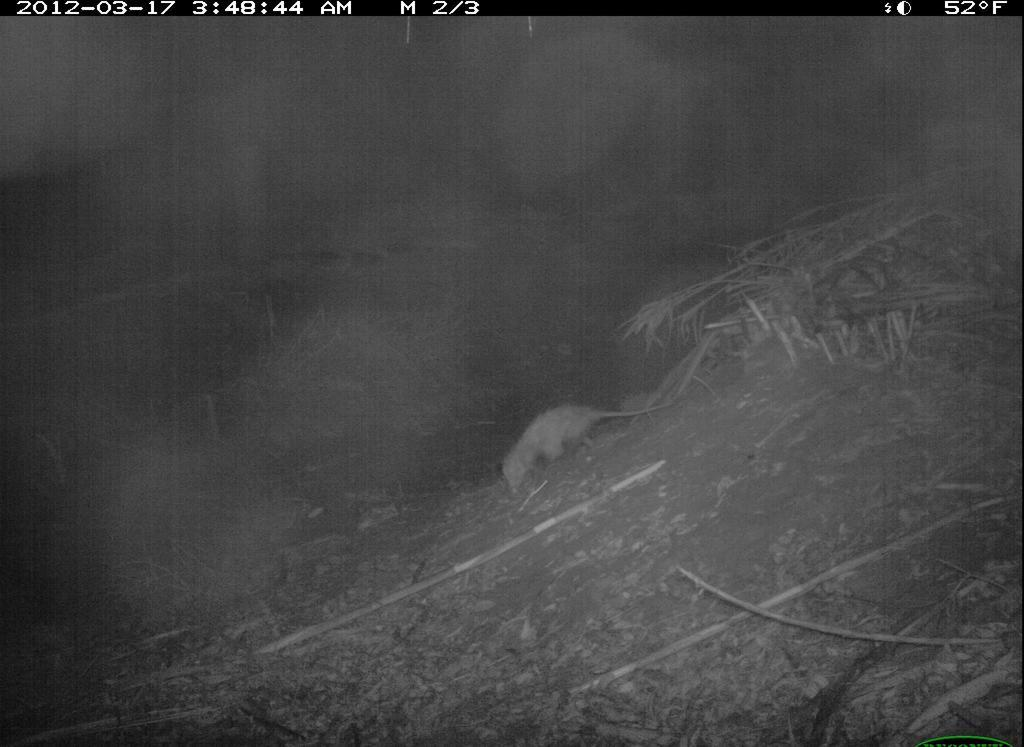opossum: (493, 392, 678, 507)
